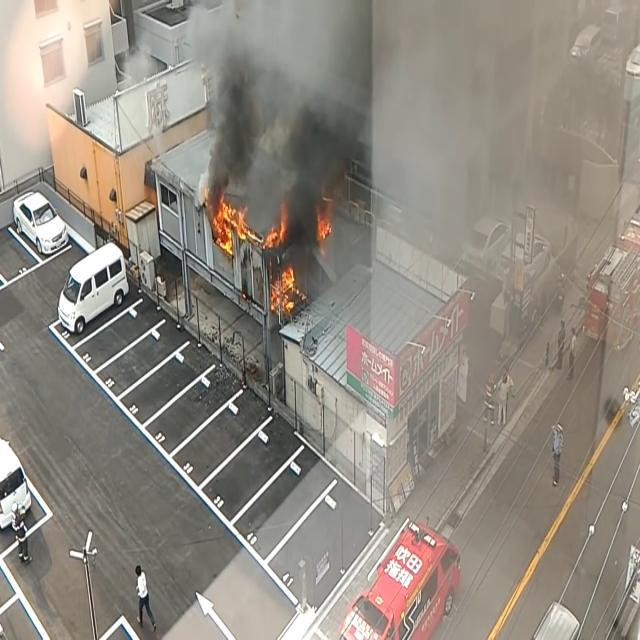Fire: (208, 194, 252, 252), (272, 260, 302, 316)
Smoke: (372, 0, 611, 259), (192, 0, 370, 224)
